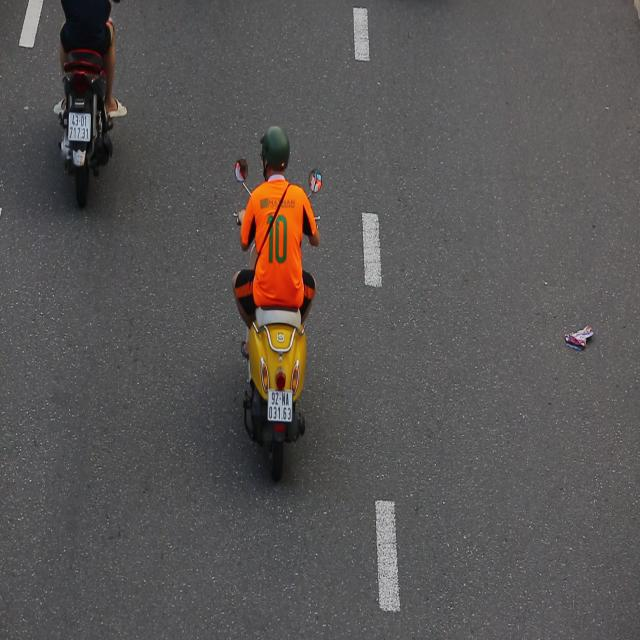motorbike: (224, 121, 328, 492)
